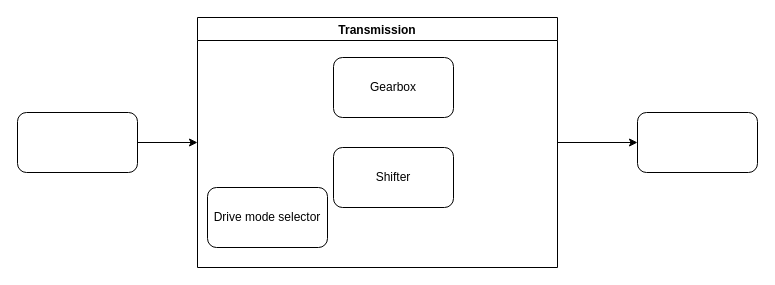
This 775x285 diagram has some shape labels left out. The shapes that lost their labels are listed below. From the top down, each one's box as (x1, y1, x2, y2) in pixels, then its label:
(16, 112, 138, 172): Engine
(636, 112, 758, 172): Vehicle
